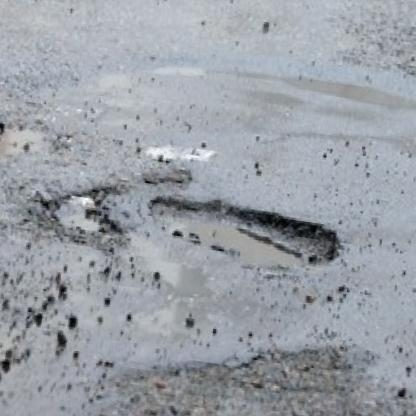pothole: (143, 189, 346, 275), (47, 182, 111, 244)
